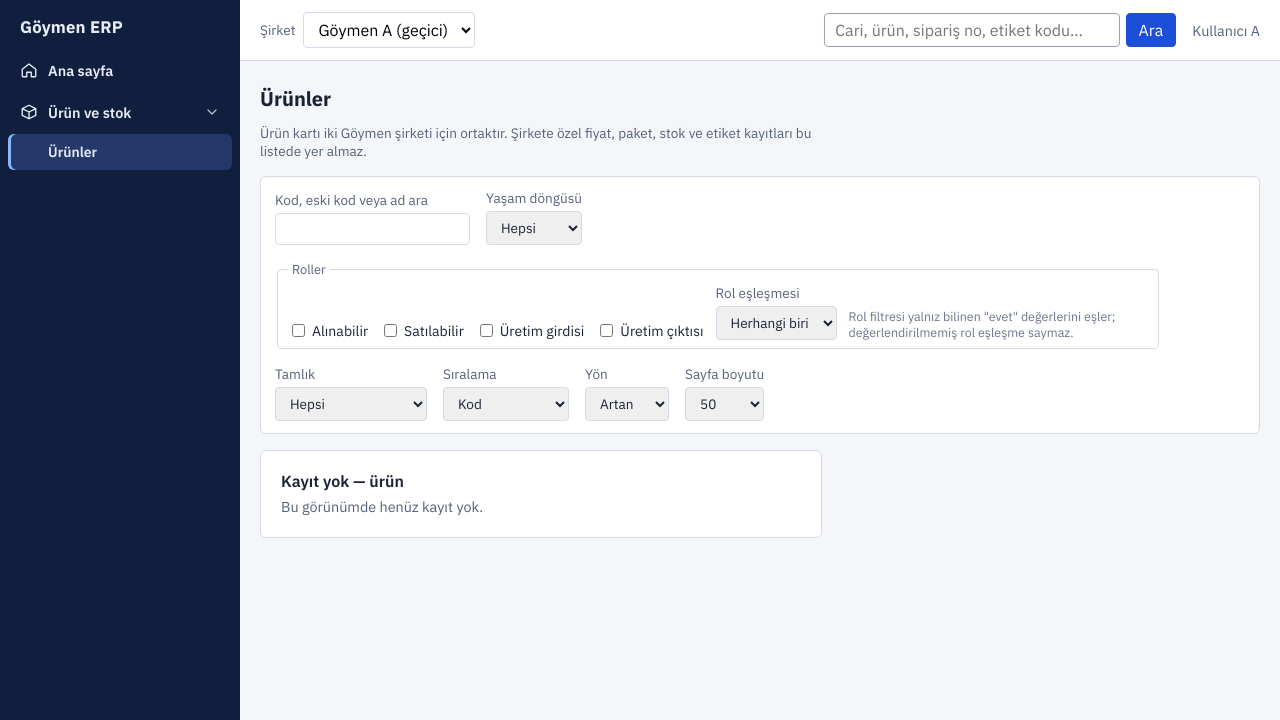
Test: §13 states › distinguishes an empty corpus from an empty filter result
Expected: the text "Kayıt yok — ürün" is shown, x1=281 y1=471 x2=404 y2=491
Type "yok-bu" into the search field labelled "Kod, eski kod veya ad ara" at (372, 229), box x1=275 y1=213 x2=470 y2=245
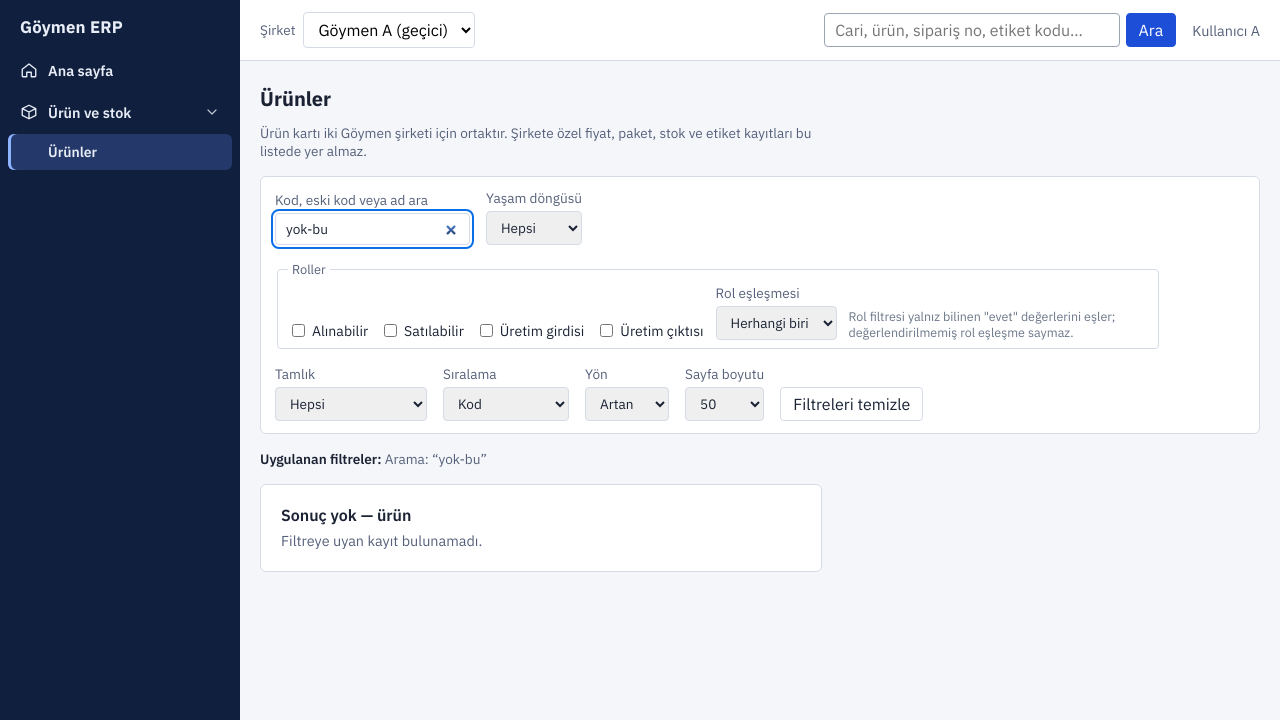
Expected: the text "Sonuç yok — ürün" is shown, x1=281 y1=505 x2=411 y2=525
